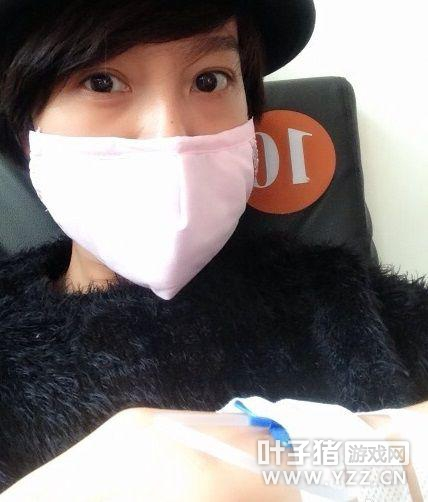face_mask: (33, 0, 256, 295)
